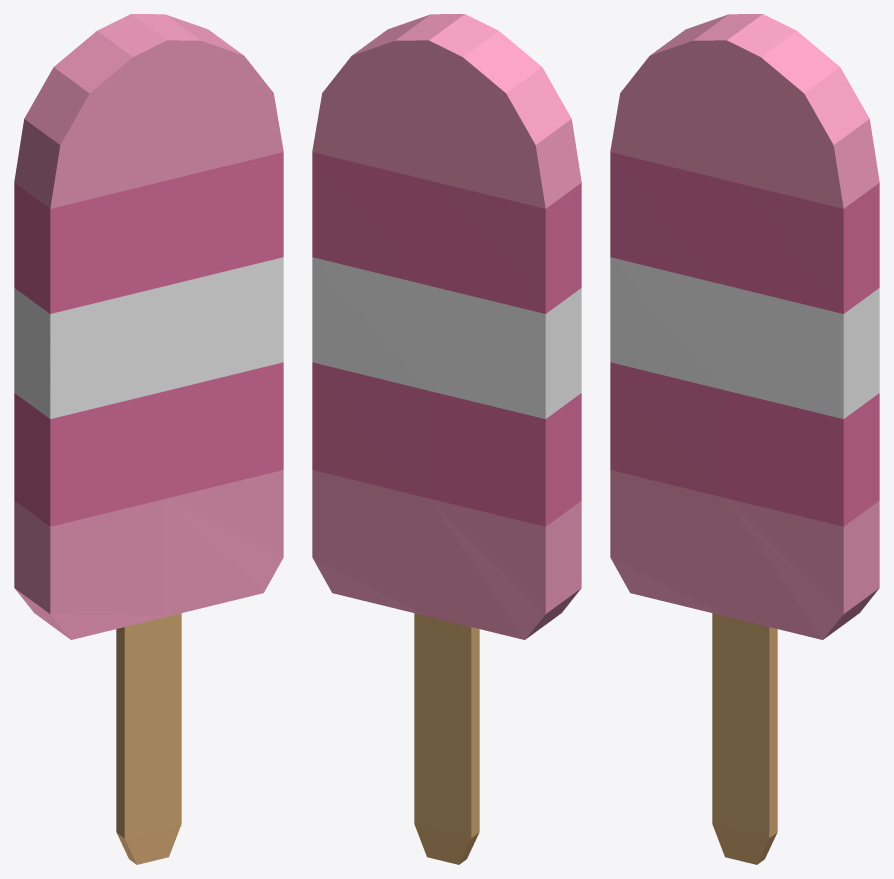
File: Popsicle_Multiple.obj
3 views of the same model, side by side, from view 1: azimuth 30°, elevation 25°; view 2: azimuth 150°, elevation 25°; view 3: azimuth 330°, elevation 25° (orthographic).
Parts seen in each view (by area): view 1: Popsicle_Multiple_PalePink, Popsicle_Multiple_PalePink2, Popsicle_Multiple_White, Popsicle_Multiple_Light; view 2: Popsicle_Multiple_PalePink, Popsicle_Multiple_PalePink2, Popsicle_Multiple_White, Popsicle_Multiple_Light; view 3: Popsicle_Multiple_PalePink, Popsicle_Multiple_PalePink2, Popsicle_Multiple_White, Popsicle_Multiple_Light.
Boxes of the visible parts, <box> form: Popsicle_Multiple_PalePink: <box>14,14,283,639</box>; Popsicle_Multiple_PalePink2: <box>14,152,283,526</box>; Popsicle_Multiple_White: <box>14,257,283,418</box>; Popsicle_Multiple_Light: <box>116,613,181,864</box>; Popsicle_Multiple_PalePink: <box>312,14,581,639</box>; Popsicle_Multiple_PalePink2: <box>312,152,581,526</box>; Popsicle_Multiple_White: <box>312,257,581,418</box>; Popsicle_Multiple_Light: <box>414,613,479,864</box>; Popsicle_Multiple_PalePink: <box>610,14,879,639</box>; Popsicle_Multiple_PalePink2: <box>610,152,879,526</box>; Popsicle_Multiple_White: <box>610,257,879,418</box>; Popsicle_Multiple_Light: <box>712,613,777,864</box>.
Bounding box in the file's own units: 0.2911 × 0.99 × 0.0798.
